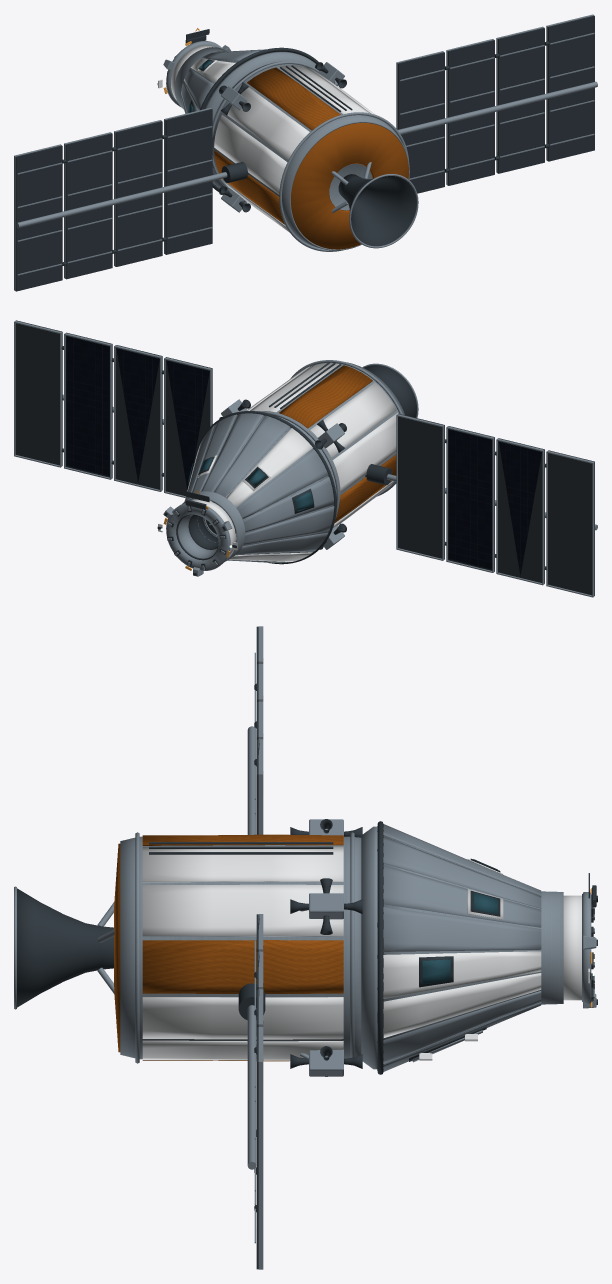
File: OrbiterLOD1.fbx
The picture shows the model from 3 angles, top to bottom: view 1: azimuth 30°, elevation 25°; view 2: azimuth 150°, elevation 25°; view 3: azimuth 270°, elevation 25°; orthographic projection. The views are drawn at different scales.
Visible parts, largest first — view 1: LOD1__Orb_Graphite, LOD1__Orb_Silver, LOD1__Orb_GoldMLI, LOD1__Orb_White; view 2: LOD1__Orb_Graphite, LOD1__Orb_Silver, LOD1__Orb_Solar, LOD1__Orb_White, LOD1__Orb_GoldMLI, LOD1__Orb_Glass; view 3: LOD1__Orb_Silver, LOD1__Orb_White, LOD1__Orb_Graphite, LOD1__Orb_GoldMLI, LOD1__Orb_Glass.
Part boxes in pixels (x1=…): LOD1__Orb_Graphite: x1=15, y1=15, x2=594, y2=291; LOD1__Orb_Silver: x1=14, y1=14, x2=597, y2=290; LOD1__Orb_GoldMLI: x1=214, y1=67, x2=408, y2=249; LOD1__Orb_White: x1=158, y1=45, x2=375, y2=232; LOD1__Orb_Graphite: x1=15, y1=320, x2=594, y2=595; LOD1__Orb_Silver: x1=14, y1=321, x2=597, y2=597; LOD1__Orb_Solar: x1=66, y1=336, x2=541, y2=576; LOD1__Orb_White: x1=158, y1=363, x2=398, y2=561; LOD1__Orb_GoldMLI: x1=279, y1=365, x2=396, y2=522; LOD1__Orb_Glass: x1=188, y1=457, x2=313, y2=511; LOD1__Orb_Silver: x1=14, y1=626, x2=596, y2=1269; LOD1__Orb_White: x1=142, y1=824, x2=589, y2=1060; LOD1__Orb_Graphite: x1=17, y1=626, x2=597, y2=1269; LOD1__Orb_GoldMLI: x1=114, y1=834, x2=343, y2=1061; LOD1__Orb_Glass: x1=422, y1=859, x2=497, y2=984.
Bounding box in the file's own units: 1621 × 399 × 918.
